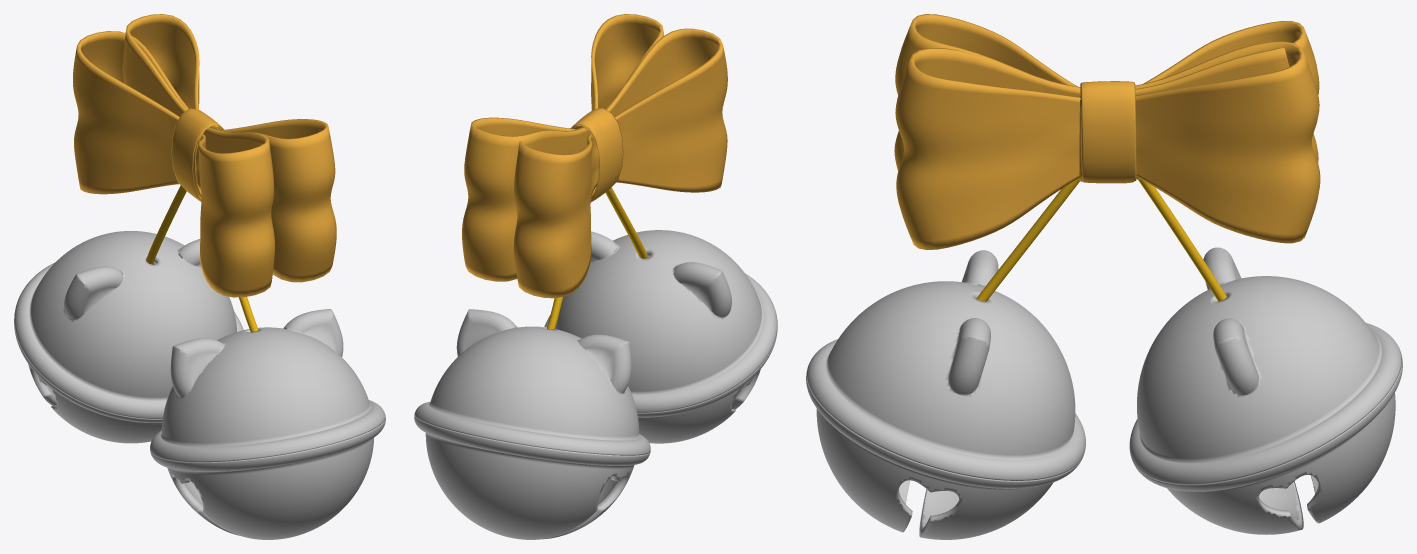
The model's file is taem2burin.glb.
The picture shows the model from 3 angles, left to right: view 1: azimuth 30°, elevation 25°; view 2: azimuth 150°, elevation 25°; view 3: azimuth 270°, elevation 25°; orthographic projection. The views are drawn at different scales.
Parts seen in each view (by area): view 1: Plane.001, 2b, 2b.001, BézierCurve; view 2: Plane.001, 2b.001, 2b, BézierCurve; view 3: Plane.001, 2b.001, 2b, BézierCurve.
Boxes of the visible parts, <box> form: Plane.001: <box>73,14,336,297</box>; 2b: <box>150,309,385,539</box>; 2b.001: <box>14,231,243,443</box>; BézierCurve: <box>146,185,258,331</box>; Plane.001: <box>462,14,727,298</box>; 2b.001: <box>414,309,650,539</box>; 2b: <box>544,230,777,443</box>; BézierCurve: <box>546,187,648,329</box>; Plane.001: <box>894,14,1320,249</box>; 2b.001: <box>1129,247,1402,534</box>; 2b: <box>806,250,1085,539</box>; BézierCurve: <box>976,178,1226,301</box>.
Bounding box in the file's own units: 1.45 × 2.62 × 2.9.
